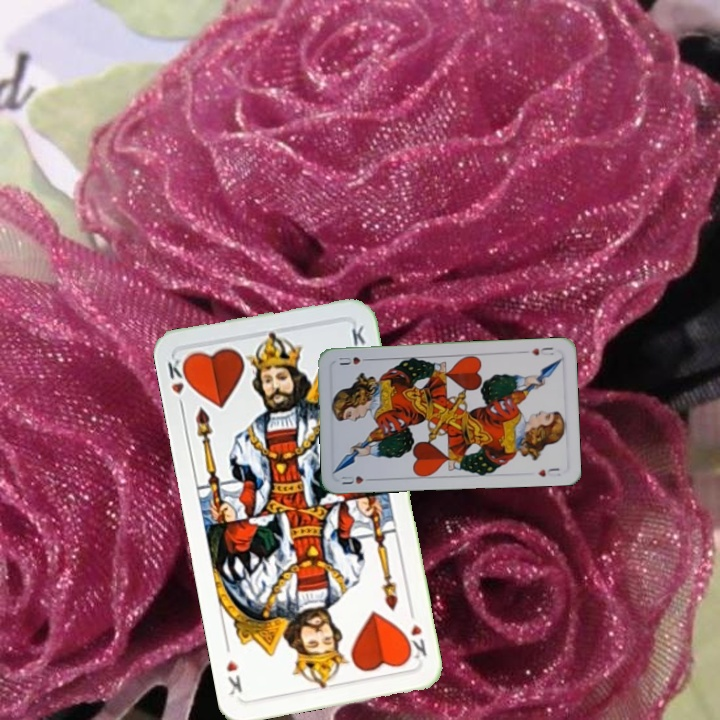HK: (163, 354, 194, 413), (400, 620, 429, 664)
HU: (337, 472, 376, 487), (527, 343, 556, 358)
